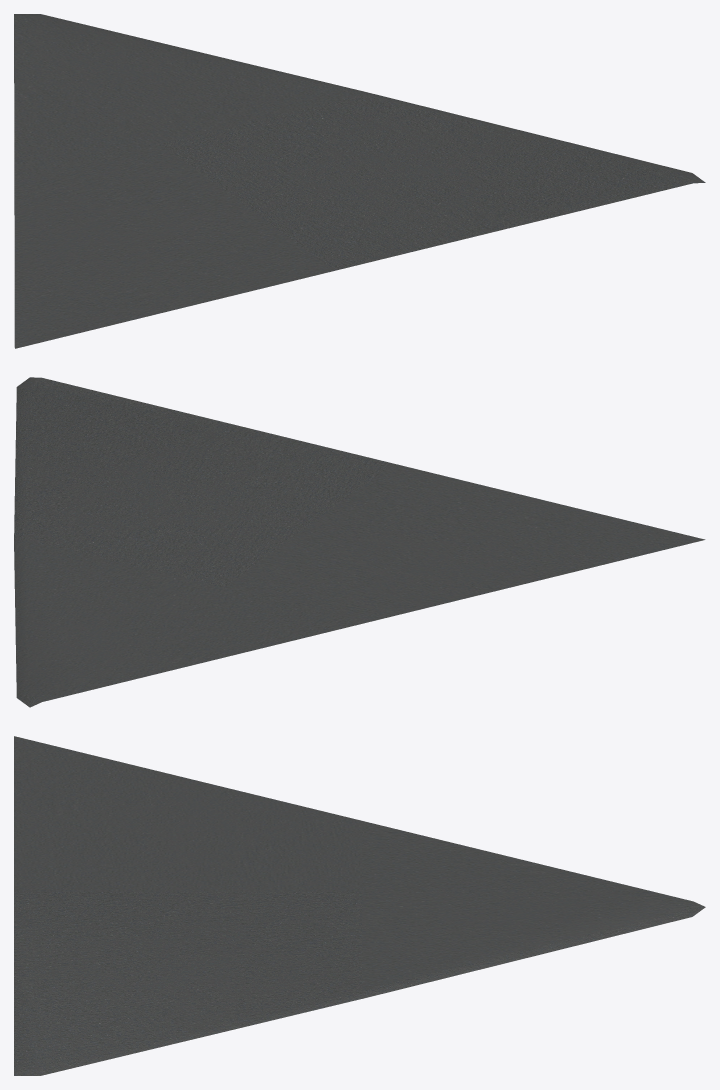
The model's file is floor02.FBX.
3 views of the same model, one above another, from view 1: azimuth 30°, elevation 25°; view 2: azimuth 150°, elevation 25°; view 3: azimuth 270°, elevation 25° (orthographic). The views are drawn at different scales.
Visible parts, largest first — view 1: floor02; view 2: floor02; view 3: floor02.
Part boxes in pixels (x1=…): floor02: x1=14, y1=14, x2=705, y2=348; floor02: x1=14, y1=377, x2=705, y2=707; floor02: x1=14, y1=736, x2=705, y2=1075.
Bounding box in the file's own units: 257 × 0.9204 × 223.
1 material, 1 textured.
